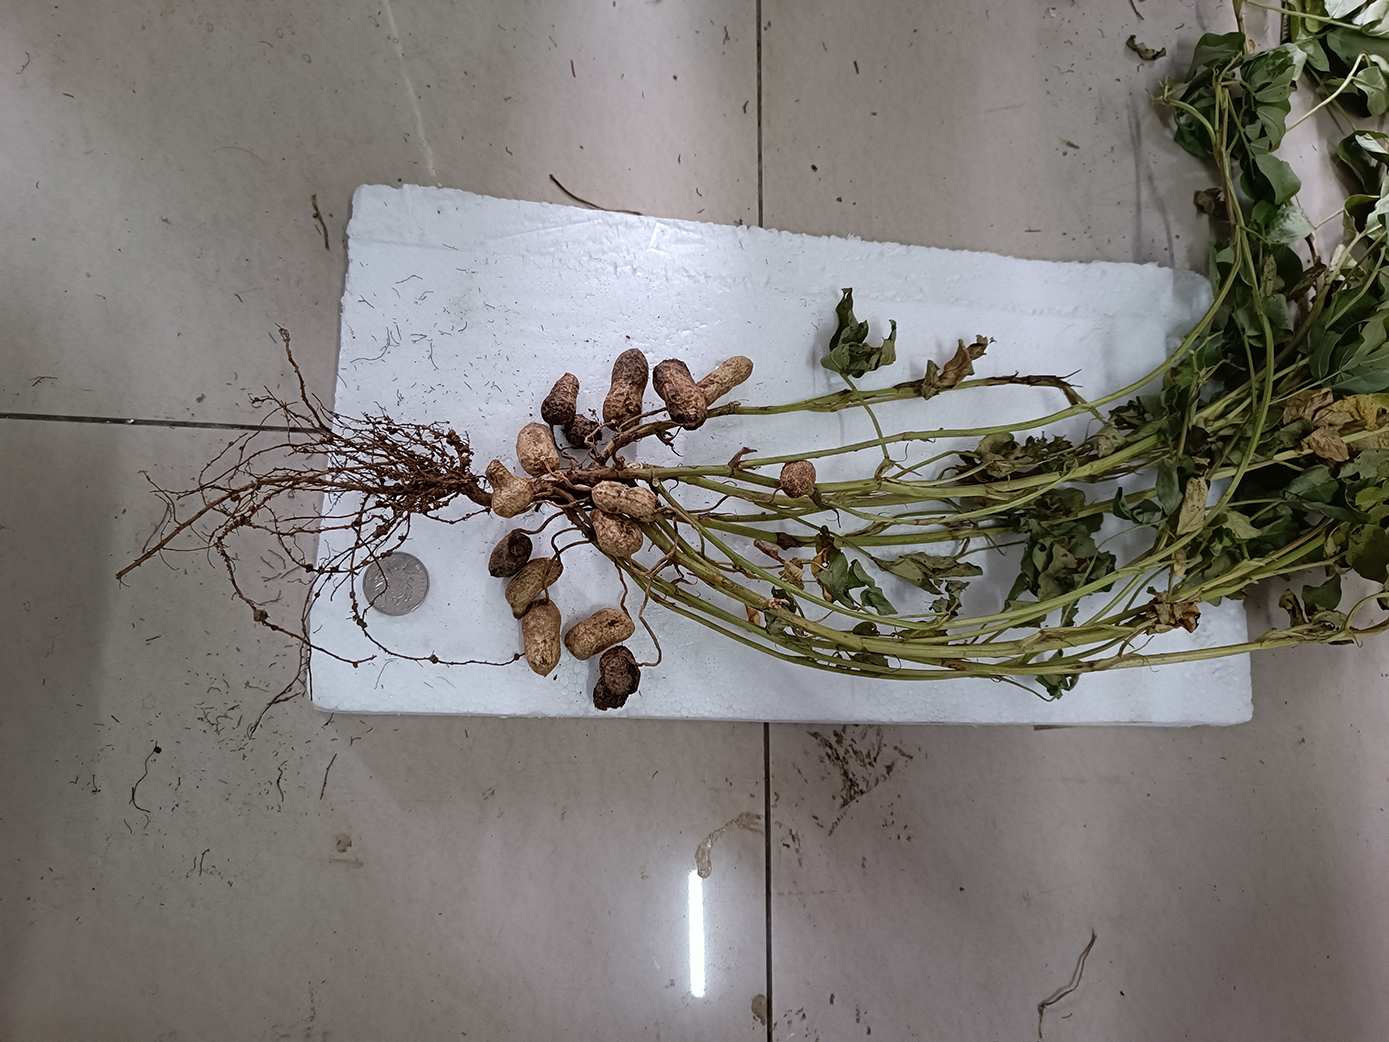h: (566, 607, 635, 658), (522, 597, 564, 673), (506, 558, 564, 613), (482, 458, 534, 518), (590, 481, 660, 520), (584, 509, 639, 557), (694, 356, 753, 400), (514, 420, 560, 470), (779, 461, 817, 499)
l: (602, 348, 649, 432), (653, 357, 706, 430), (590, 647, 643, 714), (491, 526, 530, 576), (544, 370, 578, 425), (560, 414, 592, 447)
